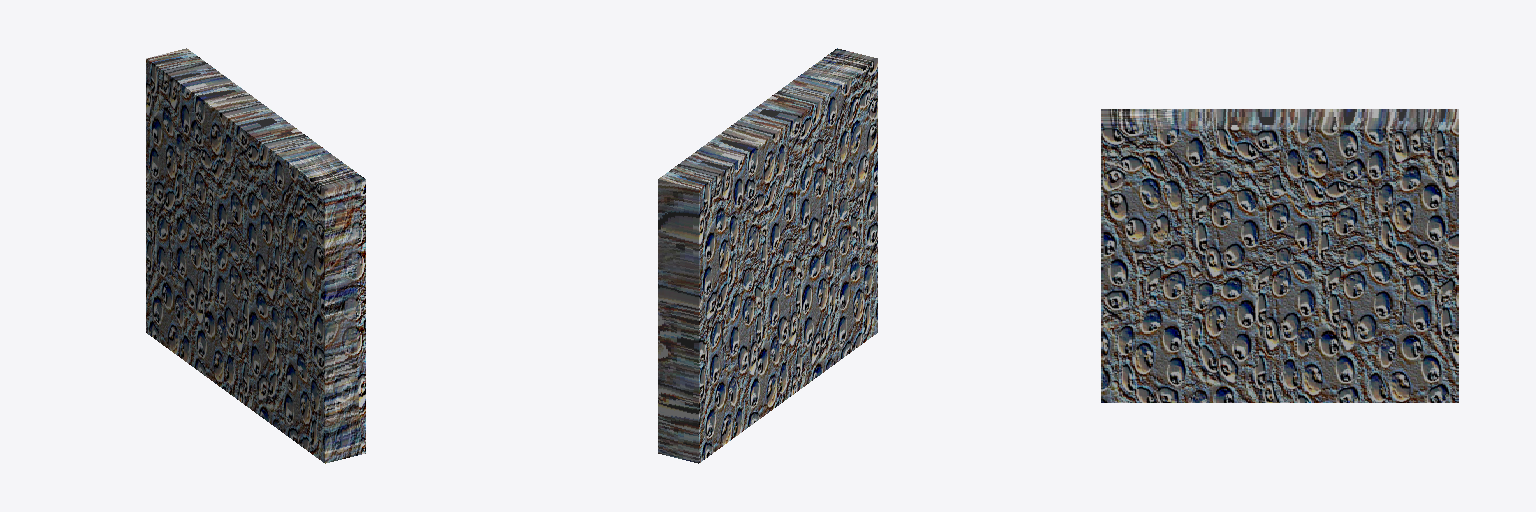
3 renders of one model, left to right at view 1: azimuth 30°, elevation 25°; view 2: azimuth 150°, elevation 25°; view 3: azimuth 270°, elevation 25°, orthographic.
Visible parts, largest first — view 1: obj1; view 2: obj1; view 3: obj1.
Part boxes in pixels (left/top/right/bottom): obj1: left=146, top=48, right=365, bottom=463; obj1: left=658, top=48, right=877, bottom=463; obj1: left=1101, top=109, right=1458, bottom=402.
Bounding box in the file's own units: 0.0801 × 0.512 × 0.605.
Materials: 1 (1 with a texture image).